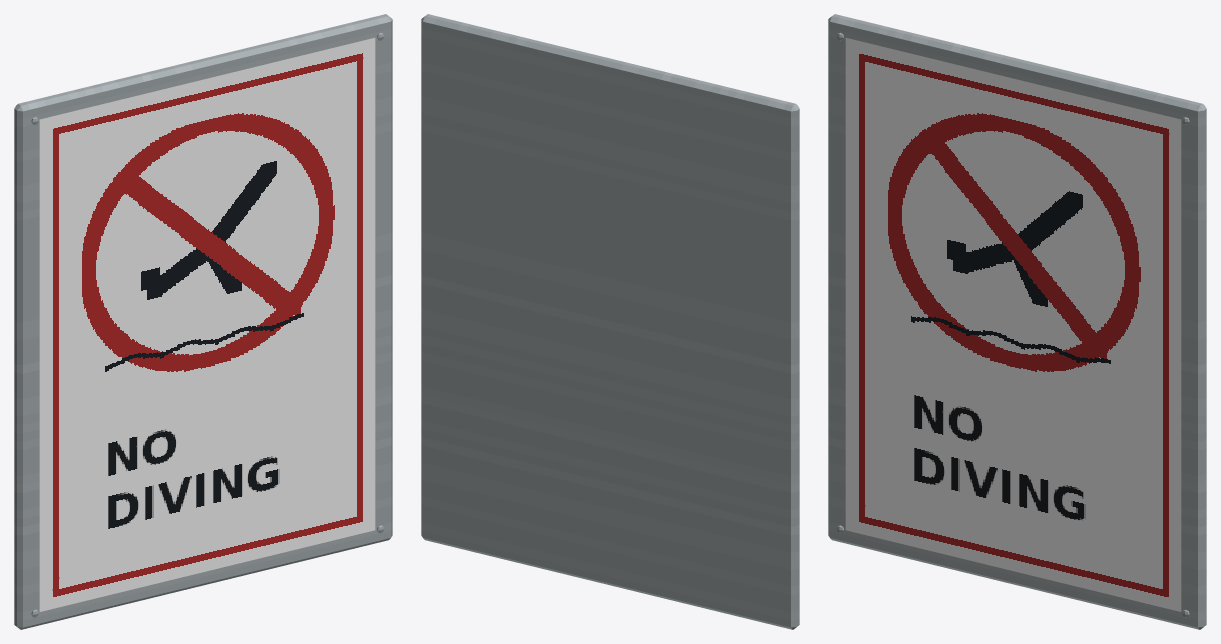
Rendered from pool_safety_sign.glb.
3 views of the same model, side by side, from view 1: azimuth 30°, elevation 25°; view 2: azimuth 150°, elevation 25°; view 3: azimuth 330°, elevation 25° (orthographic).
Parts seen in each view (by area): view 1: pool_pool_safety_sign; view 2: pool_pool_safety_sign; view 3: pool_pool_safety_sign.
Part boxes in pixels (x1=…): pool_pool_safety_sign: x1=14, y1=14, x2=392, y2=629; pool_pool_safety_sign: x1=421, y1=14, x2=799, y2=629; pool_pool_safety_sign: x1=828, y1=14, x2=1206, y2=629.
Size of the model in its own units: 0.3 by 0.4 by 0.0125.
Materials: 2 (2 with a texture image).
